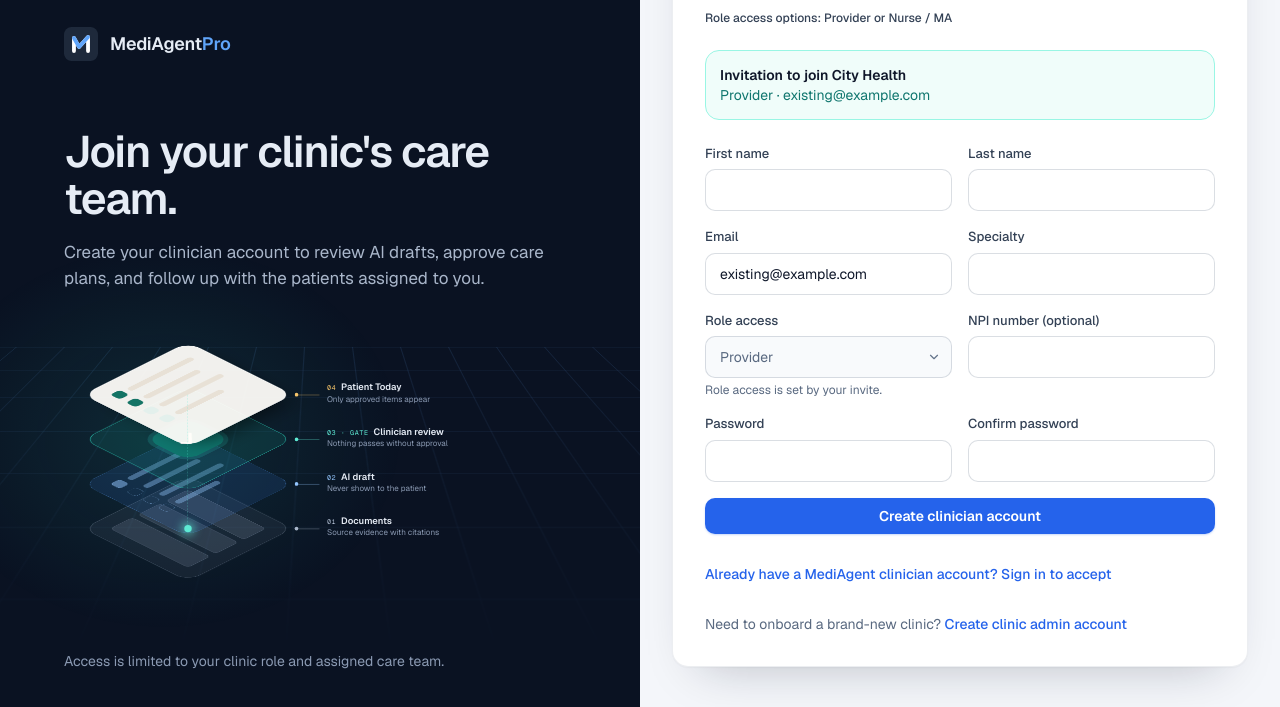
Scenario: Clinician signup page › lets an existing account sign in to accept without a portal session
(page scrolled)
Click the button "Sign in to accept" at (908, 574), box 705,558 -> 1112,590
(page scrolled)
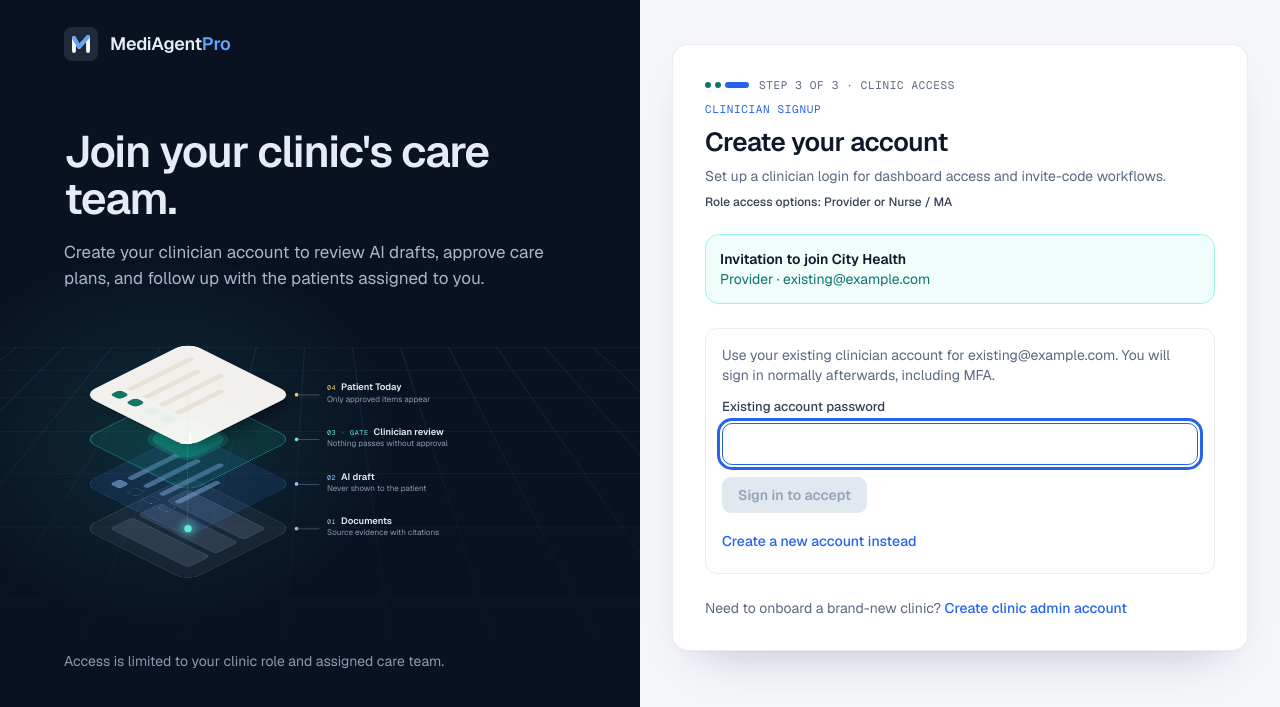
Type "pw" into the password field labelled "Existing account password" at (960, 444), box 722,422 -> 1198,464
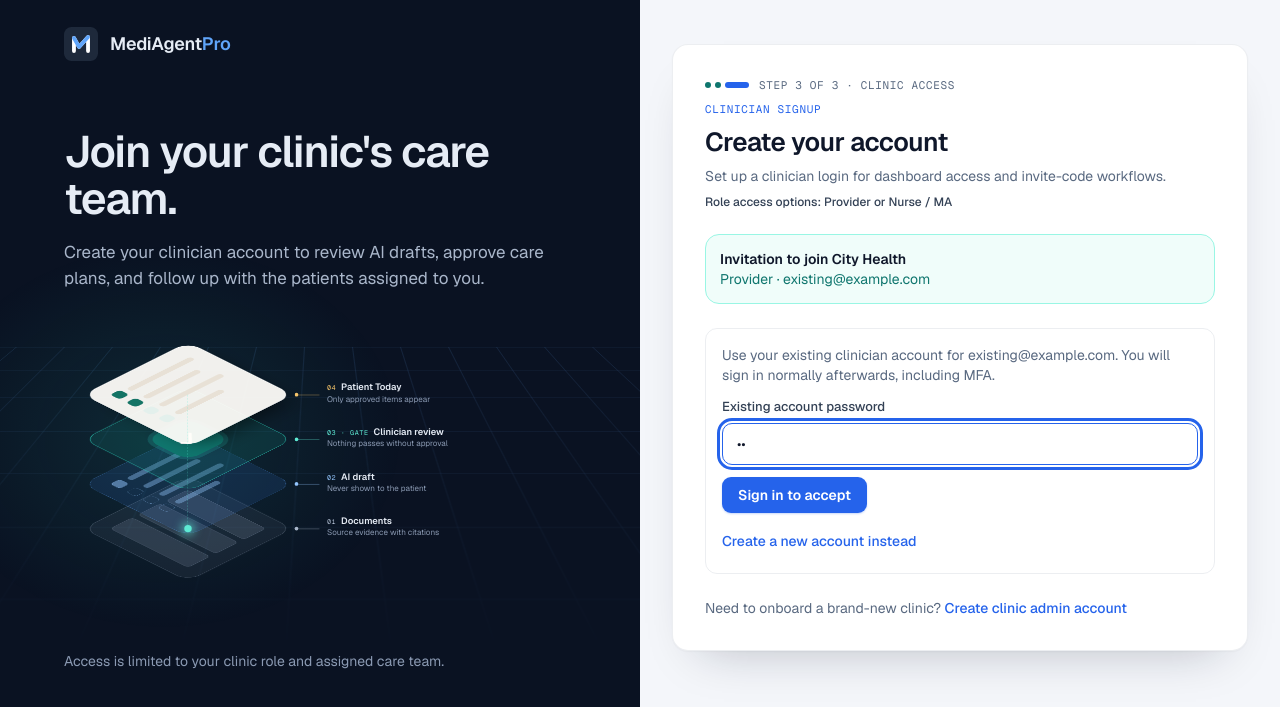
Click the button "Sign in to accept" at (794, 494), box 722,476 -> 867,512
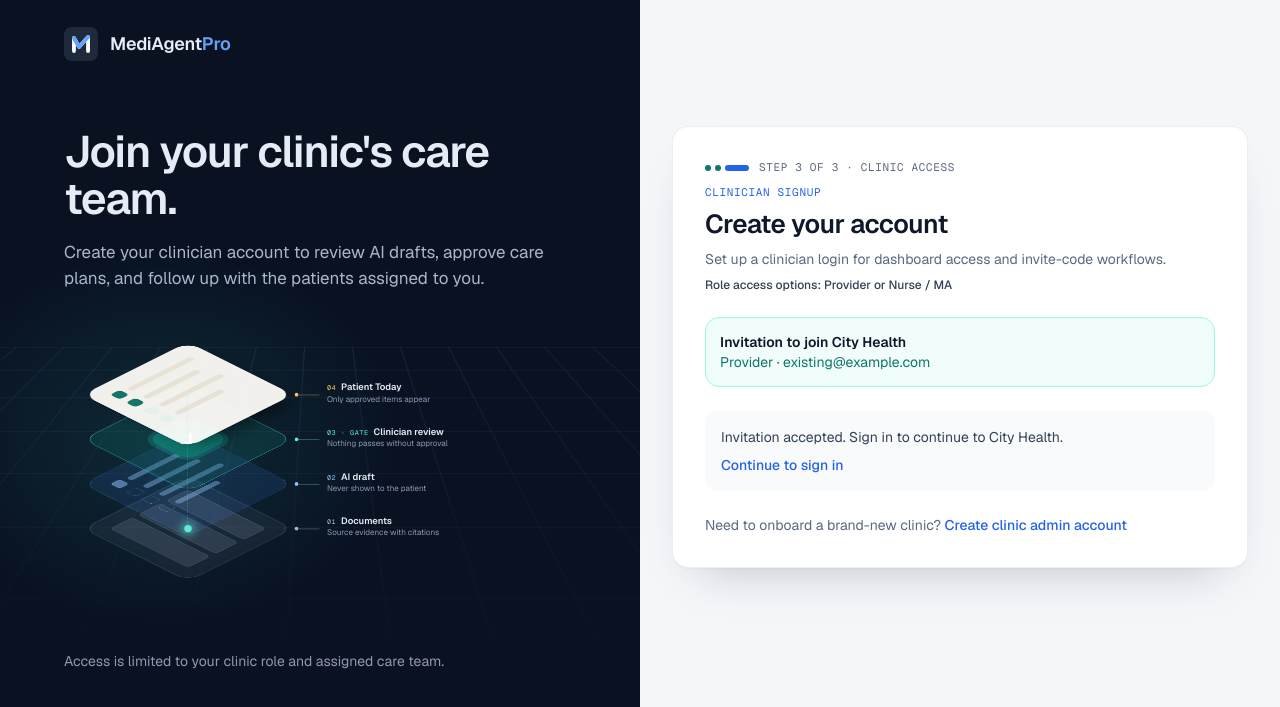
Now the text "Invitation accepted. Sign in to continue to City Health." is shown, box 721,428 -> 1063,446
